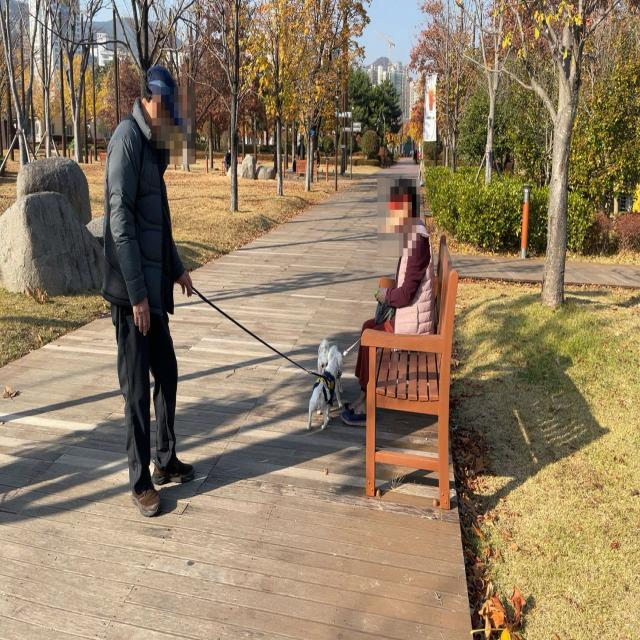Leashed_Dog: (162, 282, 342, 429), (316, 320, 378, 408)
